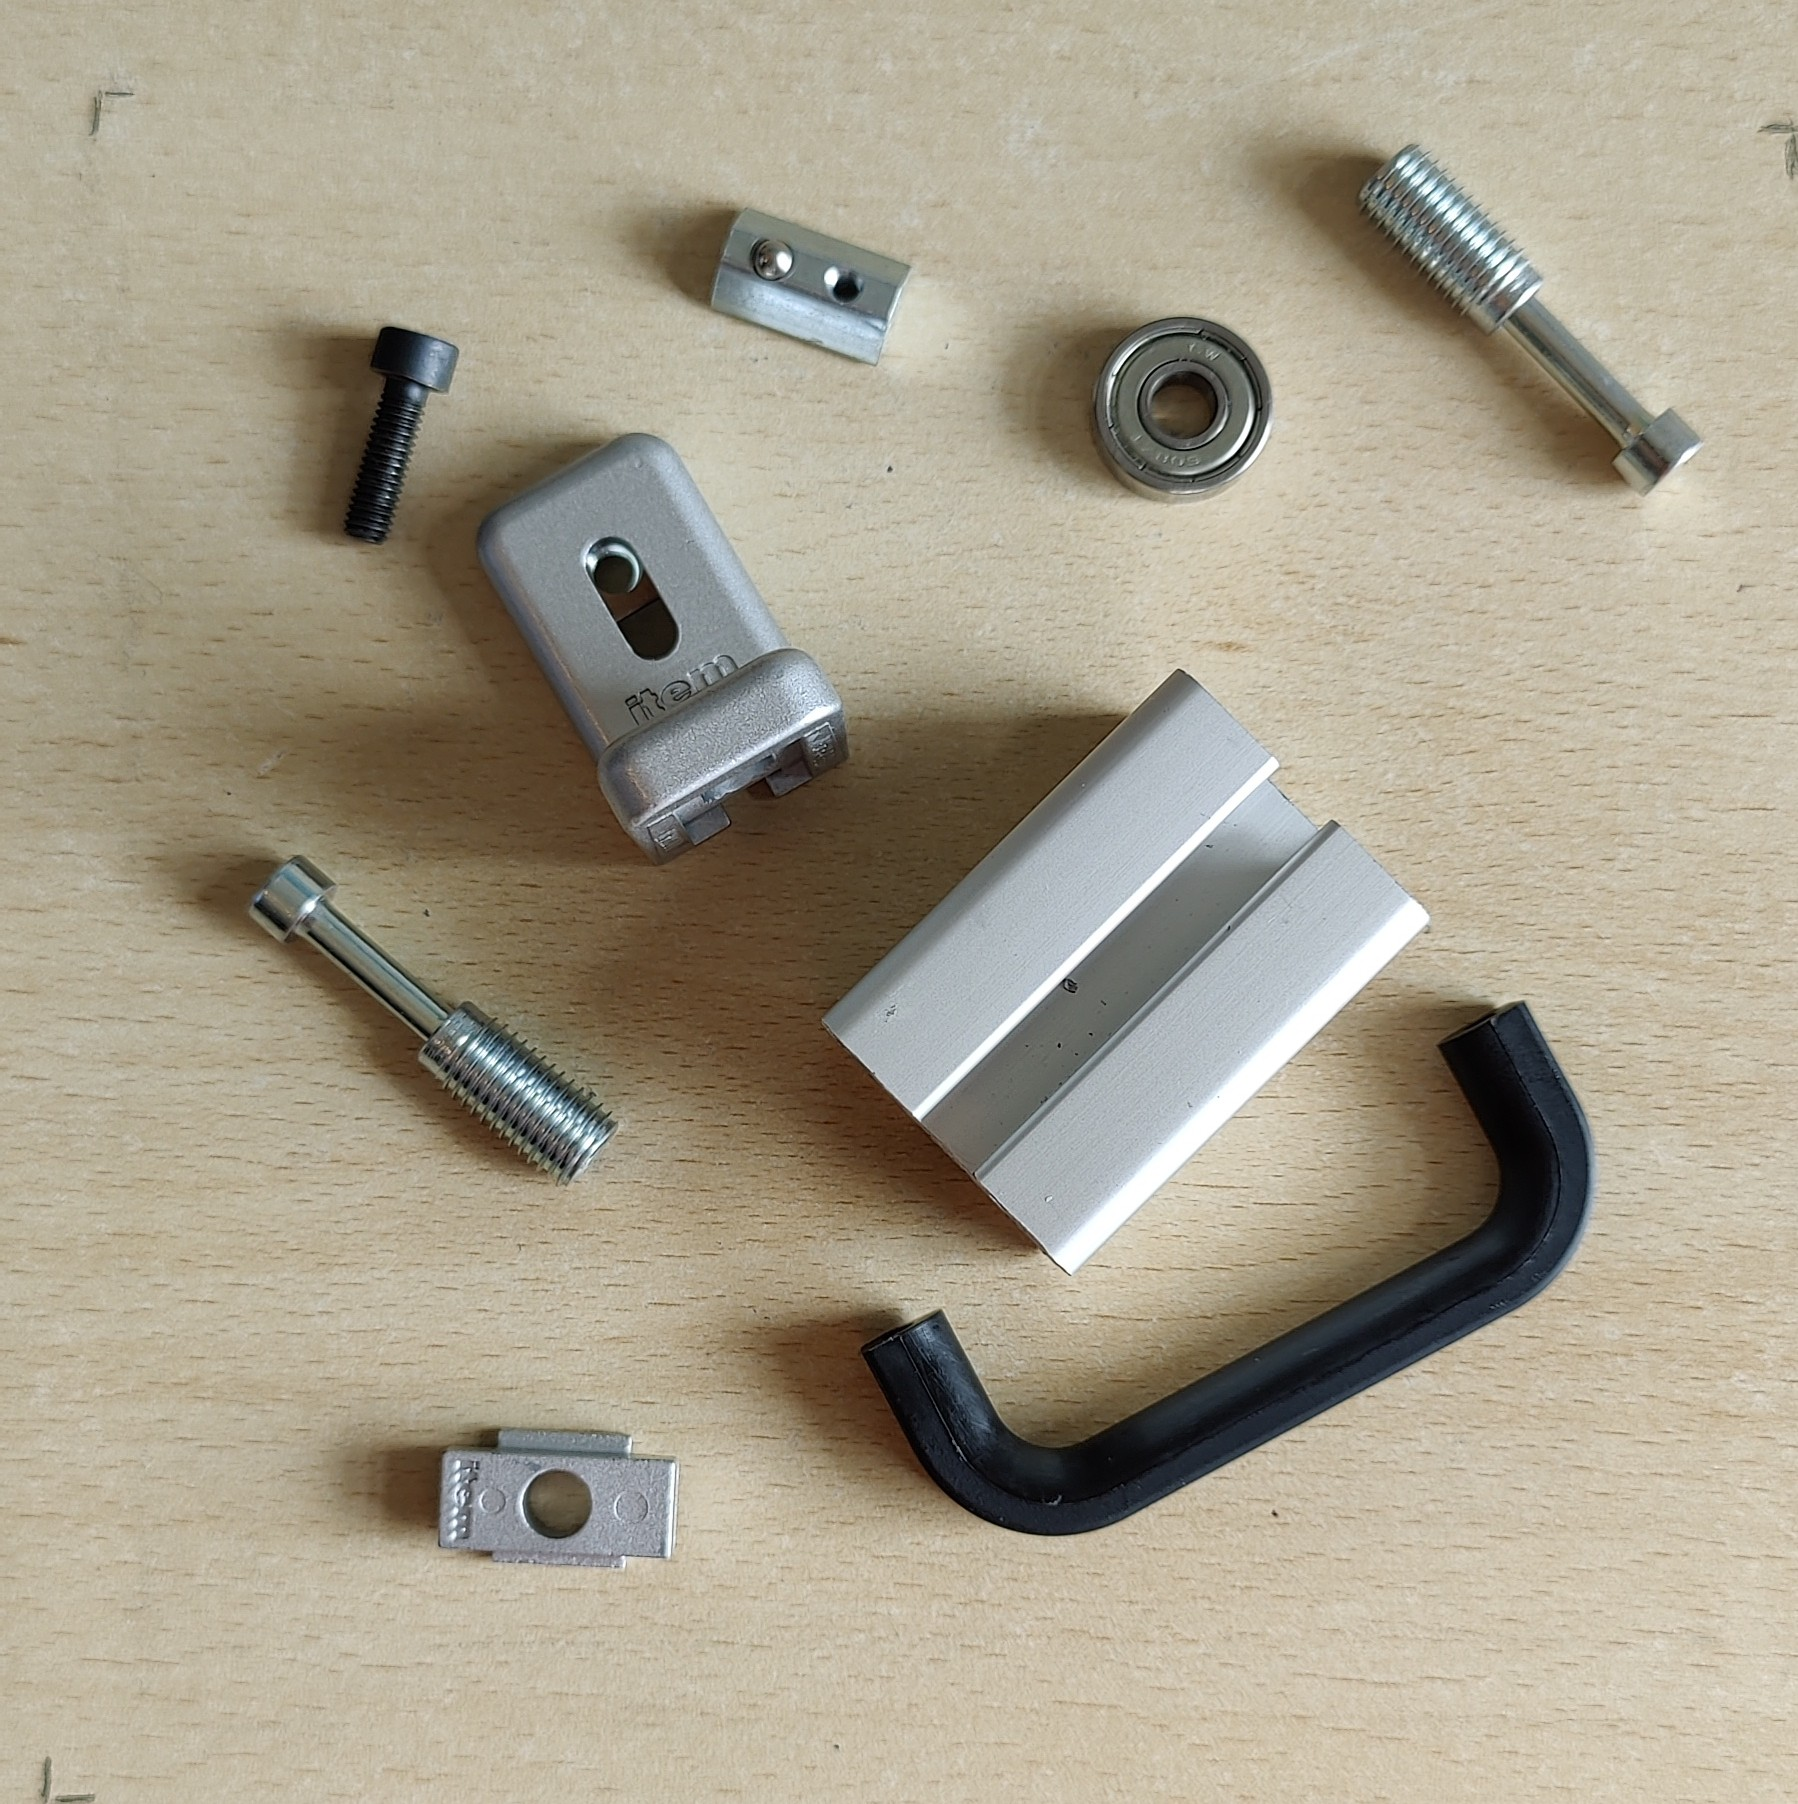Aluminium Extension: (818, 663, 1436, 1277)
Ball Bearing: (1088, 313, 1278, 505)
Multiwinkel: (469, 430, 853, 867)
Pull Handle: (859, 997, 1597, 1537)
Shoulder Socket Head Cap Screw: (242, 848, 622, 1188), (1352, 138, 1706, 500)
Socket Head Cap Screw: (338, 323, 461, 548)
T Nut Square: (433, 1424, 682, 1574)
T Spring Nut: (708, 204, 915, 369)
